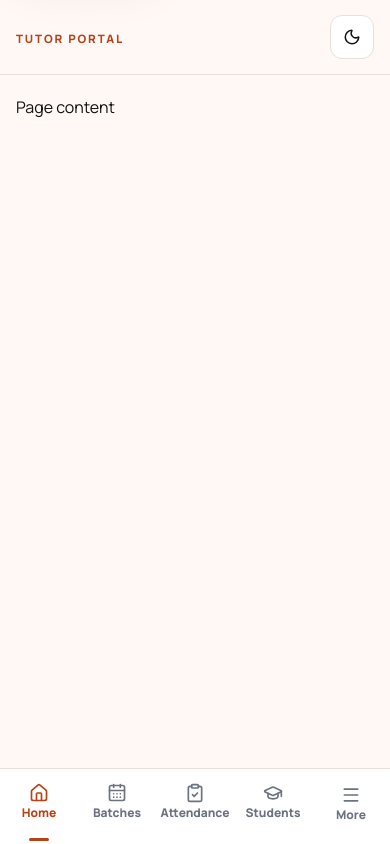
Test: PortalShell mobile navigation › puts the Tutor Profile link in More
Click the button "More" at (351, 806), box x1=312 y1=769 x2=389 y2=843
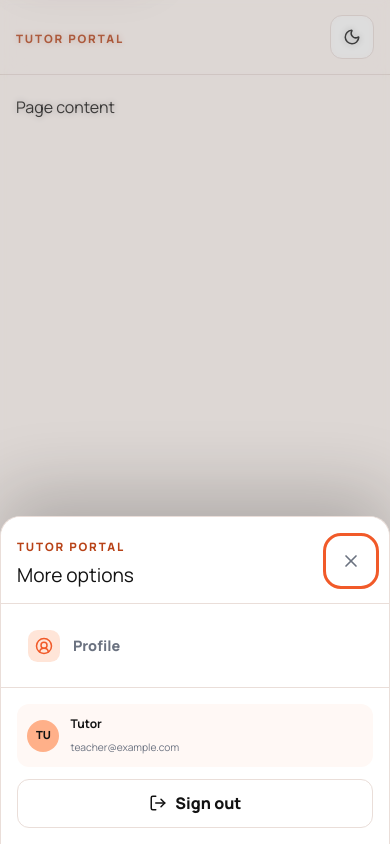
Now the text "teacher@example.com" is shown, box x1=71 y1=740 x2=179 y2=754
Now the button "Sign out" is shown, box x1=17 y1=779 x2=373 y2=828
